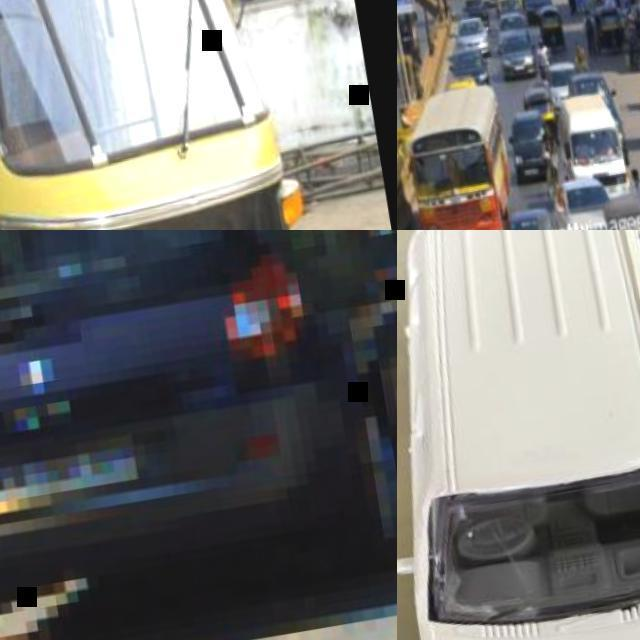car: (469, 17, 557, 182), (547, 70, 636, 226)
